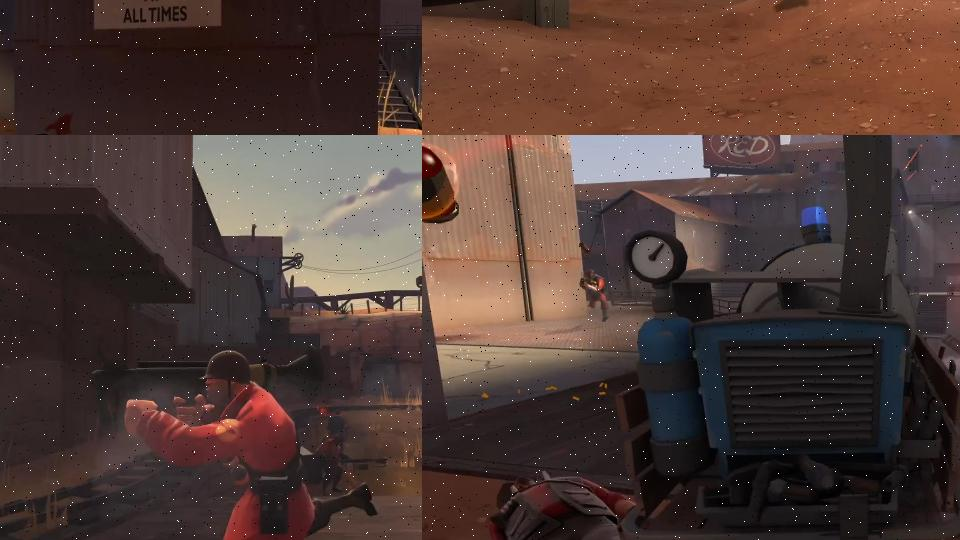Enemy: (91, 345, 378, 540), (443, 465, 645, 540), (315, 432, 387, 496), (577, 265, 615, 324), (326, 410, 347, 450)
